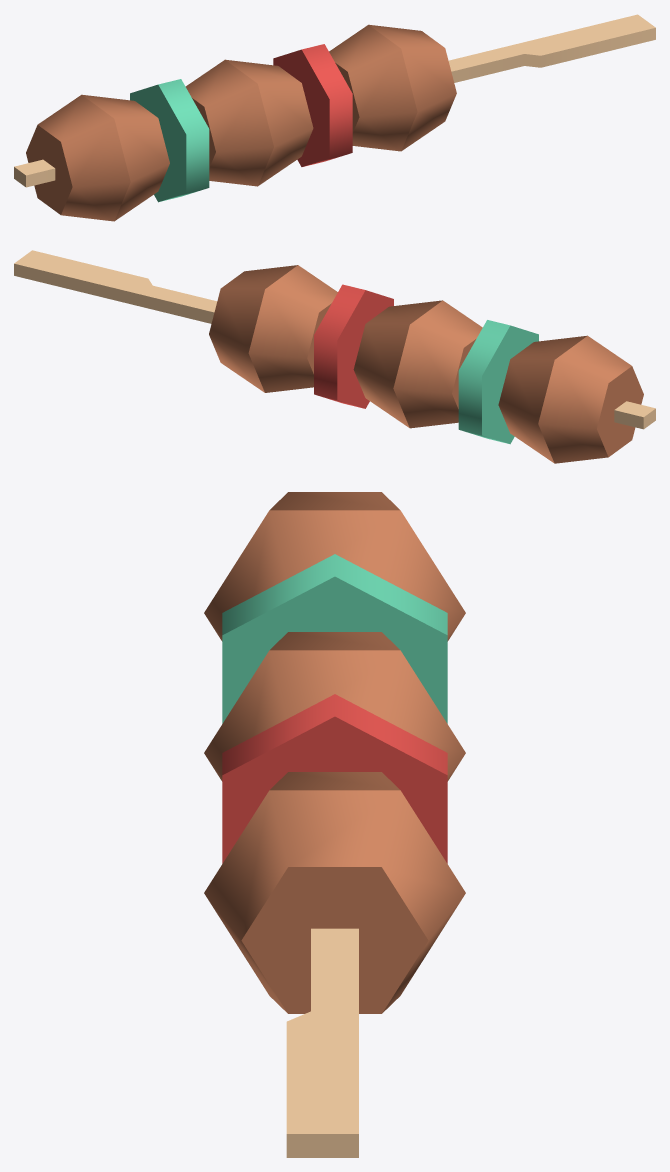
File: Skewer Vegetables.glb
3 renders of one model, top to bottom at view 1: azimuth 30°, elevation 25°; view 2: azimuth 150°, elevation 25°; view 3: azimuth 270°, elevation 25°, orthographic. The views are drawn at different scales.
Visible parts, largest first — view 1: Skewer Vegetables; view 2: Skewer Vegetables; view 3: Skewer Vegetables.
Part boxes in pixels (x1,y1,x2,y2): Skewer Vegetables: (14, 14, 655, 221); Skewer Vegetables: (14, 250, 655, 463); Skewer Vegetables: (204, 492, 465, 1157).
Bounding box in the file's own units: 0.5967 × 0.1077 × 0.1085.
